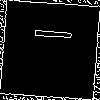I: (25, 24, 72, 43)
